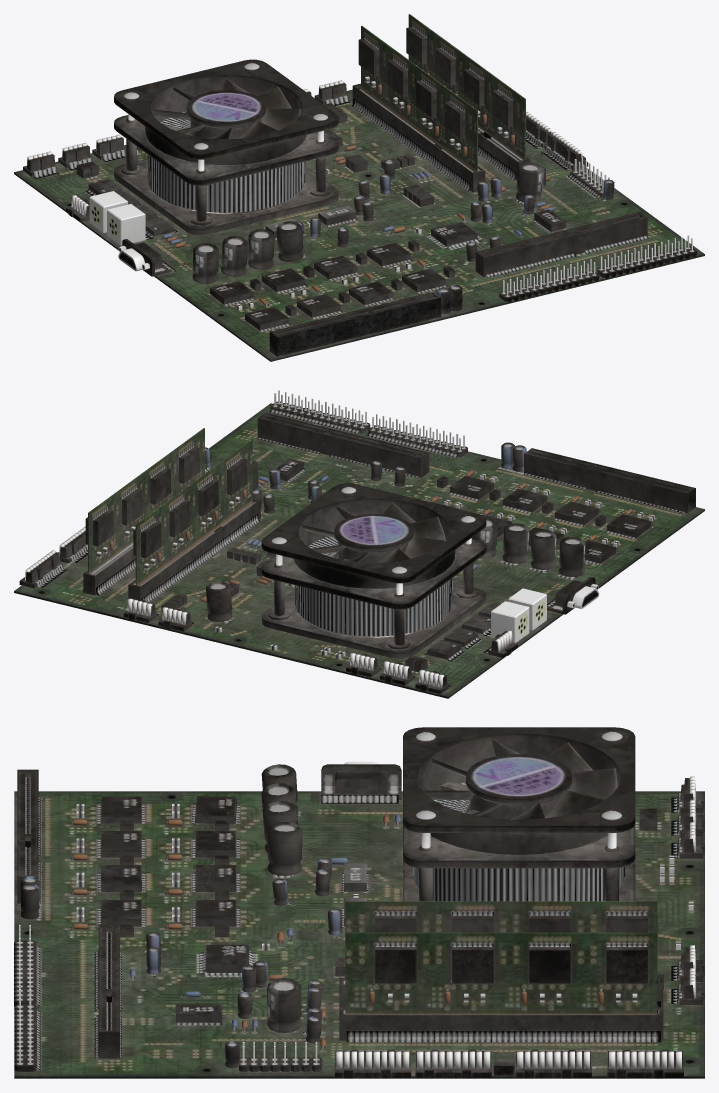
Rendered from board.glb.
3 views of the same model, one above another, from view 1: azimuth 30°, elevation 25°; view 2: azimuth 150°, elevation 25°; view 3: azimuth 270°, elevation 25° (orthographic). The views are drawn at different scales.
Parts seen in each view (by area): view 1: circuit_board; view 2: circuit_board; view 3: circuit_board.
Part boxes in pixels (x1=…): circuit_board: x1=14, y1=14, x2=704, y2=361; circuit_board: x1=14, y1=390, x2=704, y2=698; circuit_board: x1=14, y1=727, x2=704, y2=1078.
Bounding box in the file's own units: 0.4035 × 0.0783 × 0.3974.
2 materials, 2 textured.
